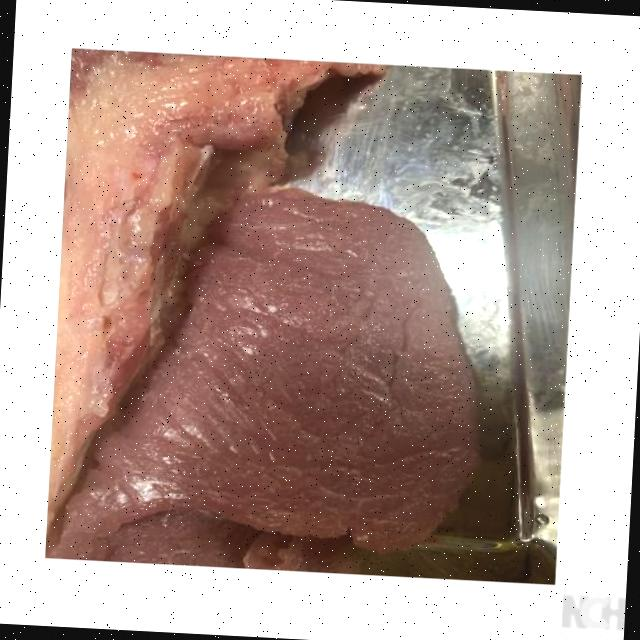rotten meat: (19, 21, 592, 596)
